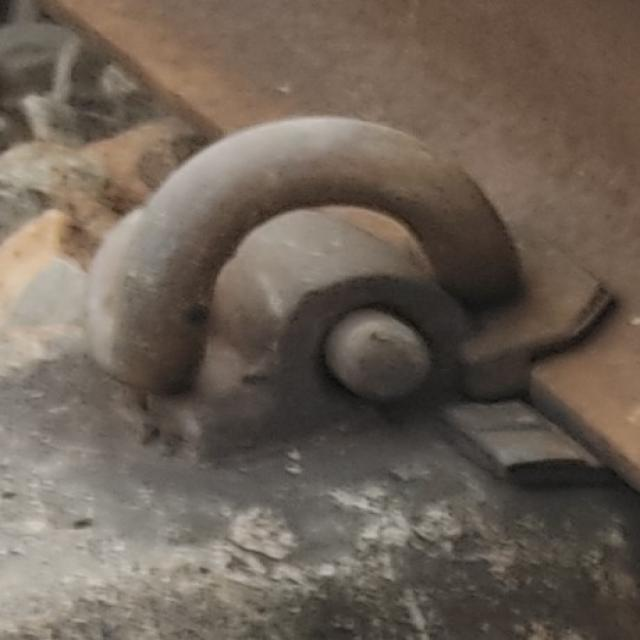track_bolt: (78, 110, 525, 389)
